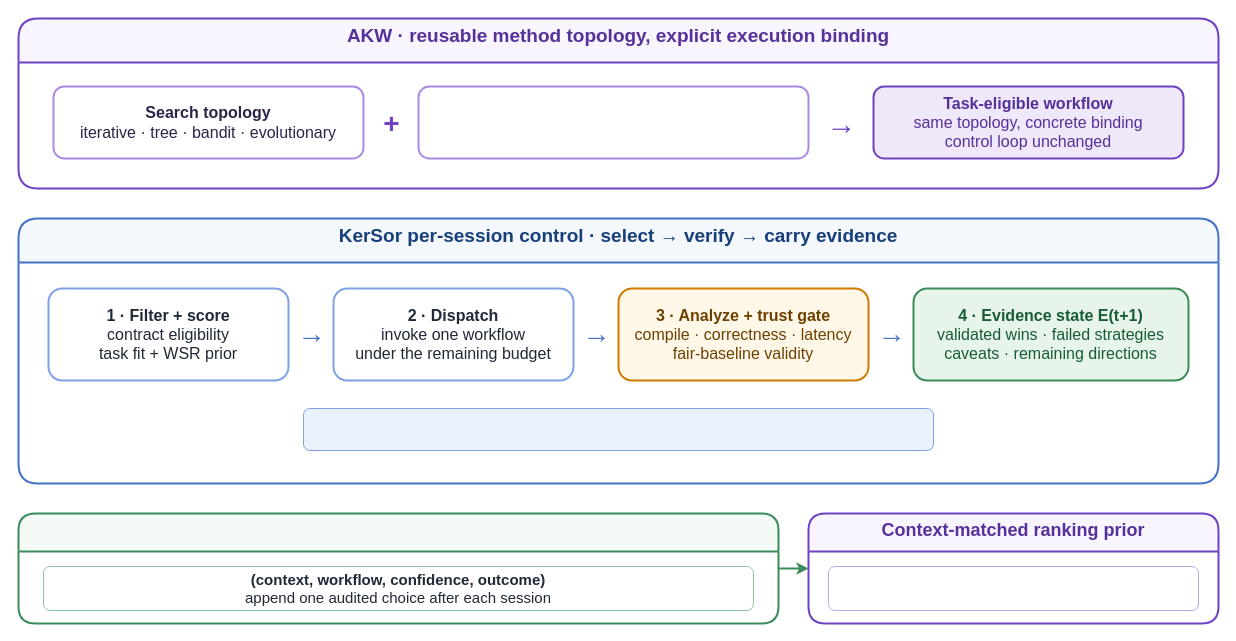
Image size: 1236x641. Some labels were removed from this diagram. The box of each missing label's shape, as (x1, y1, x2, y2) in pixels:
Execution contract backend · DSL · harness · profiler · portability: (417, 85, 809, 159)
H(t+1) · typed, confidence-tagged handoff updates the next dispatch: (302, 408, 934, 450)
retrieve similar contexts update Filter + score for the next session: (828, 566, 1198, 610)
WSR · cross-session experience prior: (17, 512, 779, 624)
